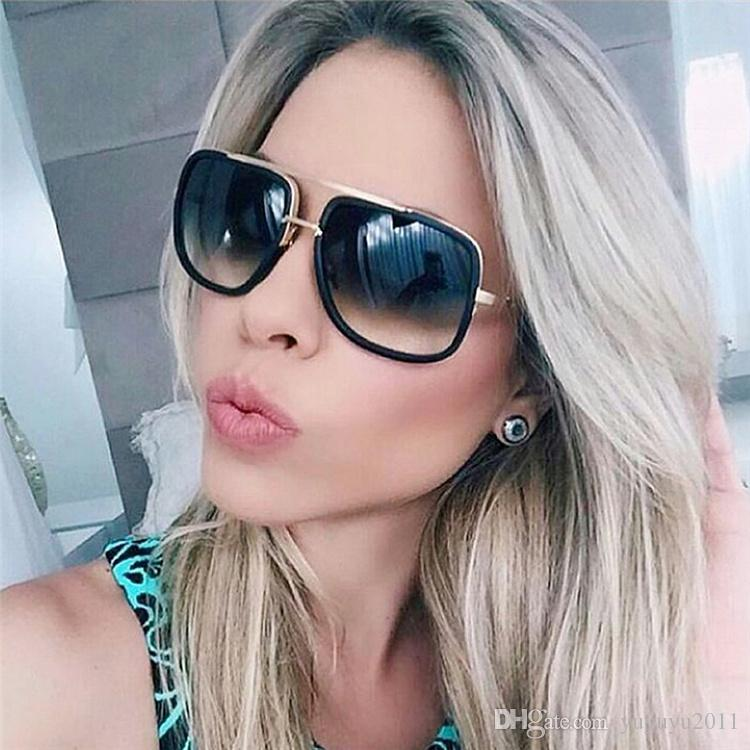sunglasses: (127, 142, 575, 381)
